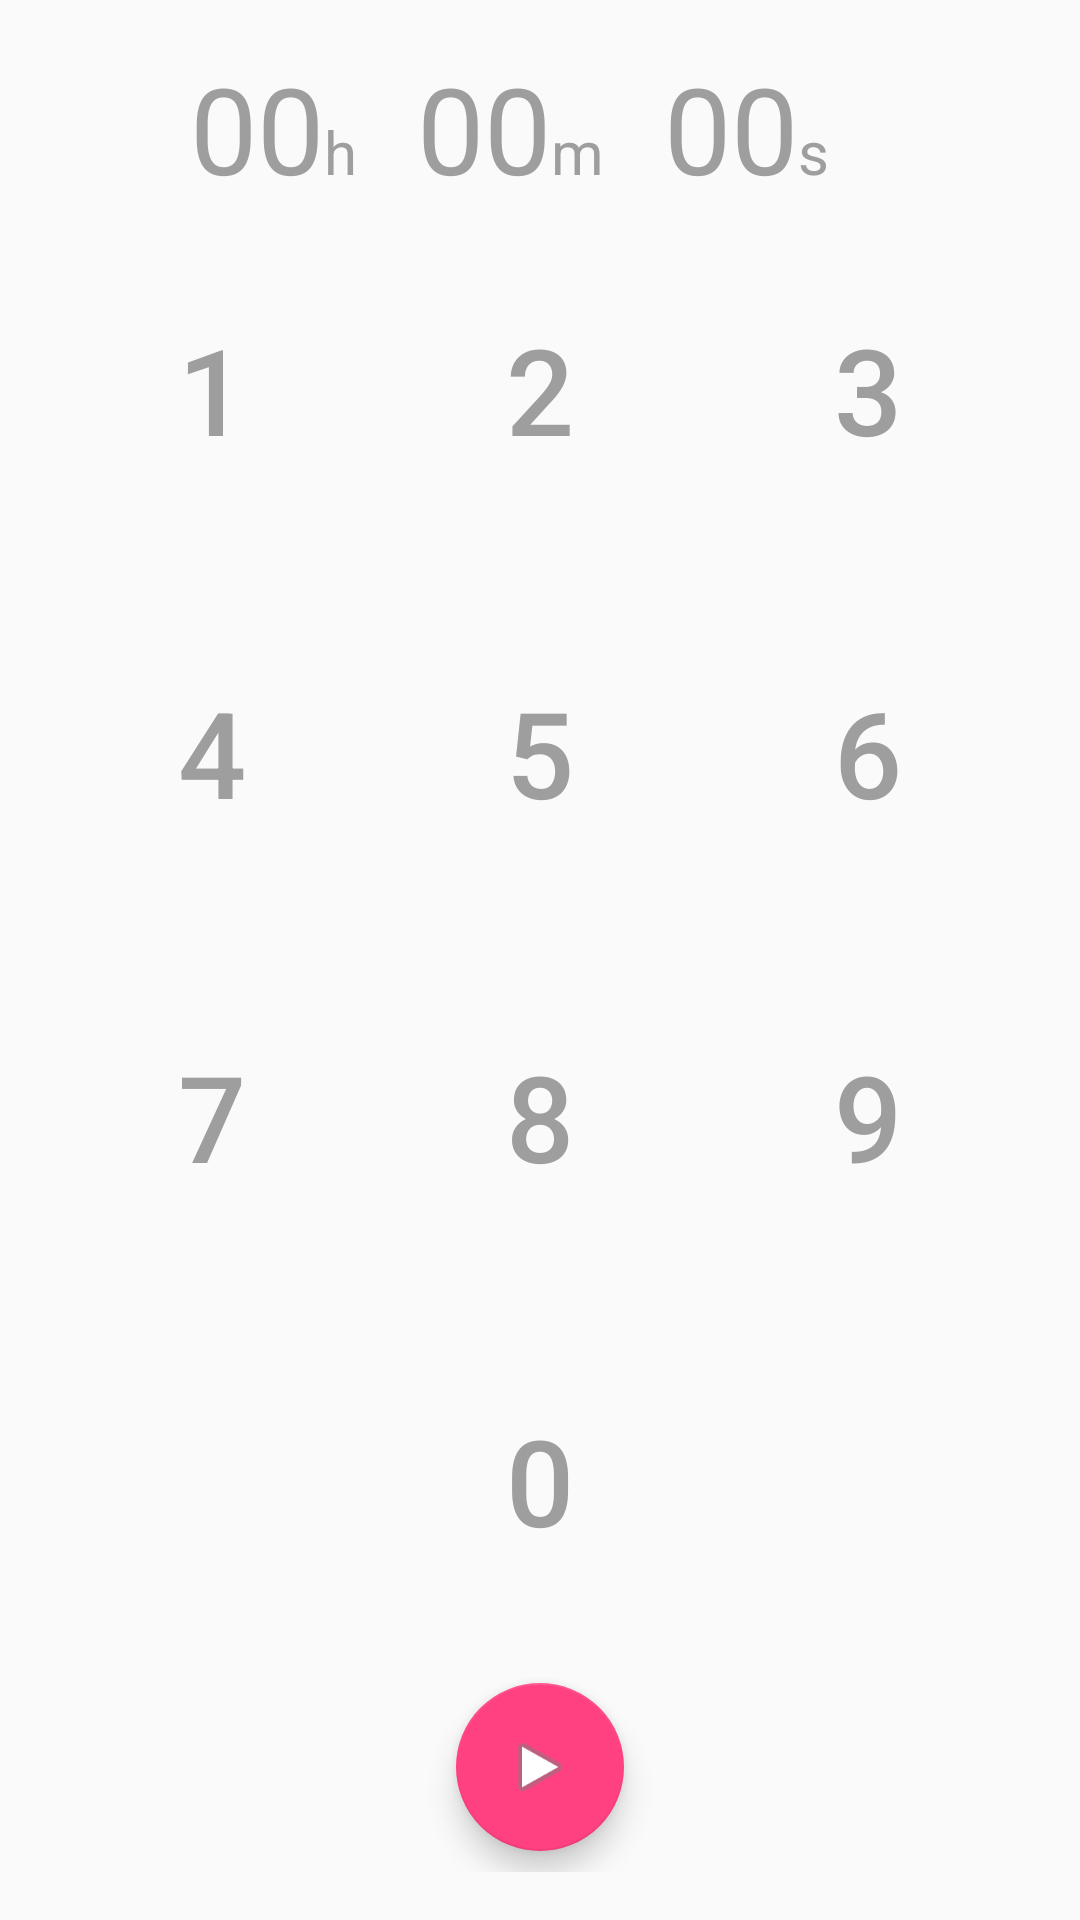

Named icons in this screenshot (1080px x 1920px) and their centers, (x=x, y=y):
play: (x=540, y=1767)
